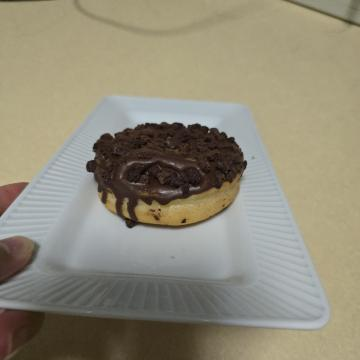doughnut: (113, 102, 239, 285)
